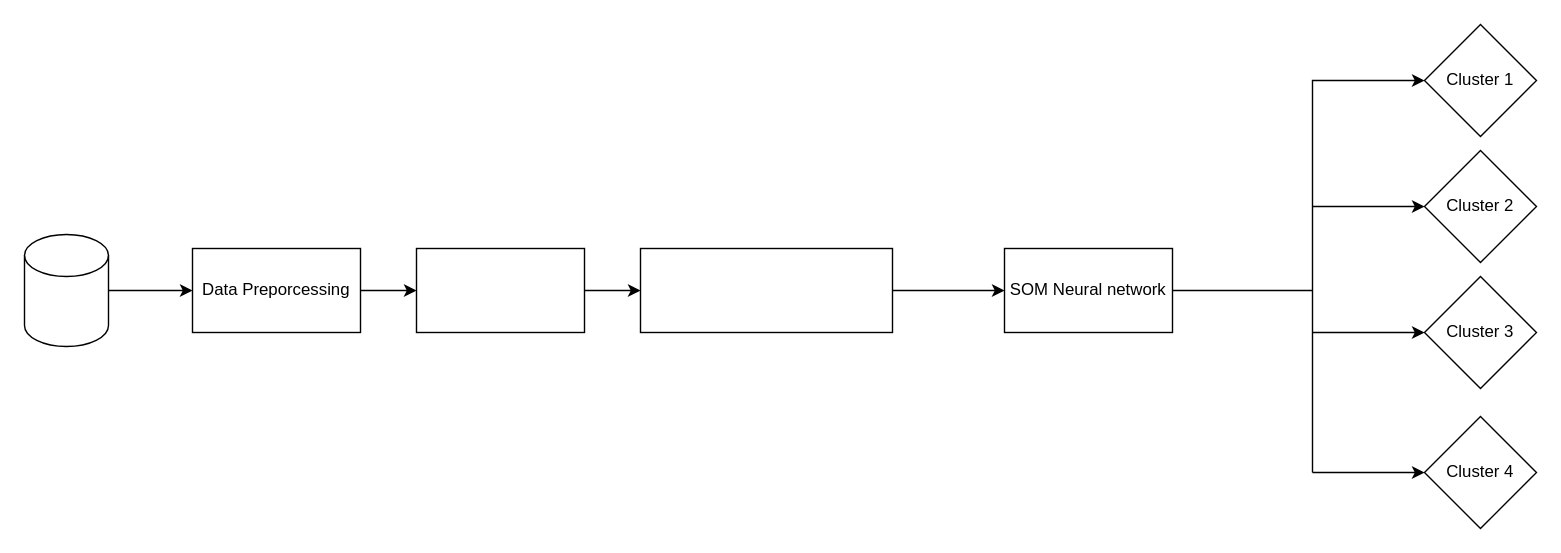
Some shapes in this 1561 by 553 pixel diagram are drawn without their labels. Each missing label, with the centre of its shape:
"Dataset" belongs at point (65, 289).
"Feature Selection" belongs at point (499, 289).
"RFM Value Calculation" belongs at point (765, 289).
